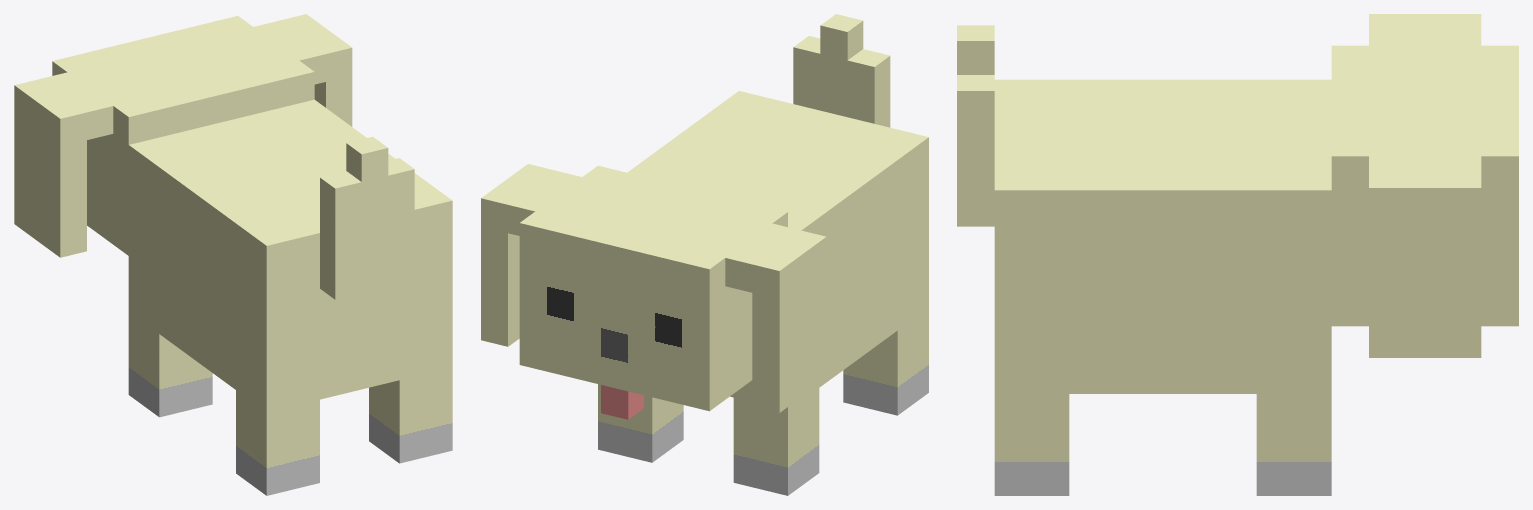
Rendered from char_puppy_white.dae.
3 renders of one model, left to right at view 1: azimuth 30°, elevation 25°; view 2: azimuth 150°, elevation 25°; view 3: azimuth 270°, elevation 25°, orthographic. The views are drawn at different scales.
Visible parts, largest first — view 1: char_puppy_white; view 2: char_puppy_white; view 3: char_puppy_white.
Part boxes in pixels (bbox=[...]): char_puppy_white: bbox=[14, 14, 452, 495]; char_puppy_white: bbox=[481, 14, 928, 495]; char_puppy_white: bbox=[957, 14, 1518, 495].
Bounding box in the file's own units: 1.1 × 1.2 × 1.5.
